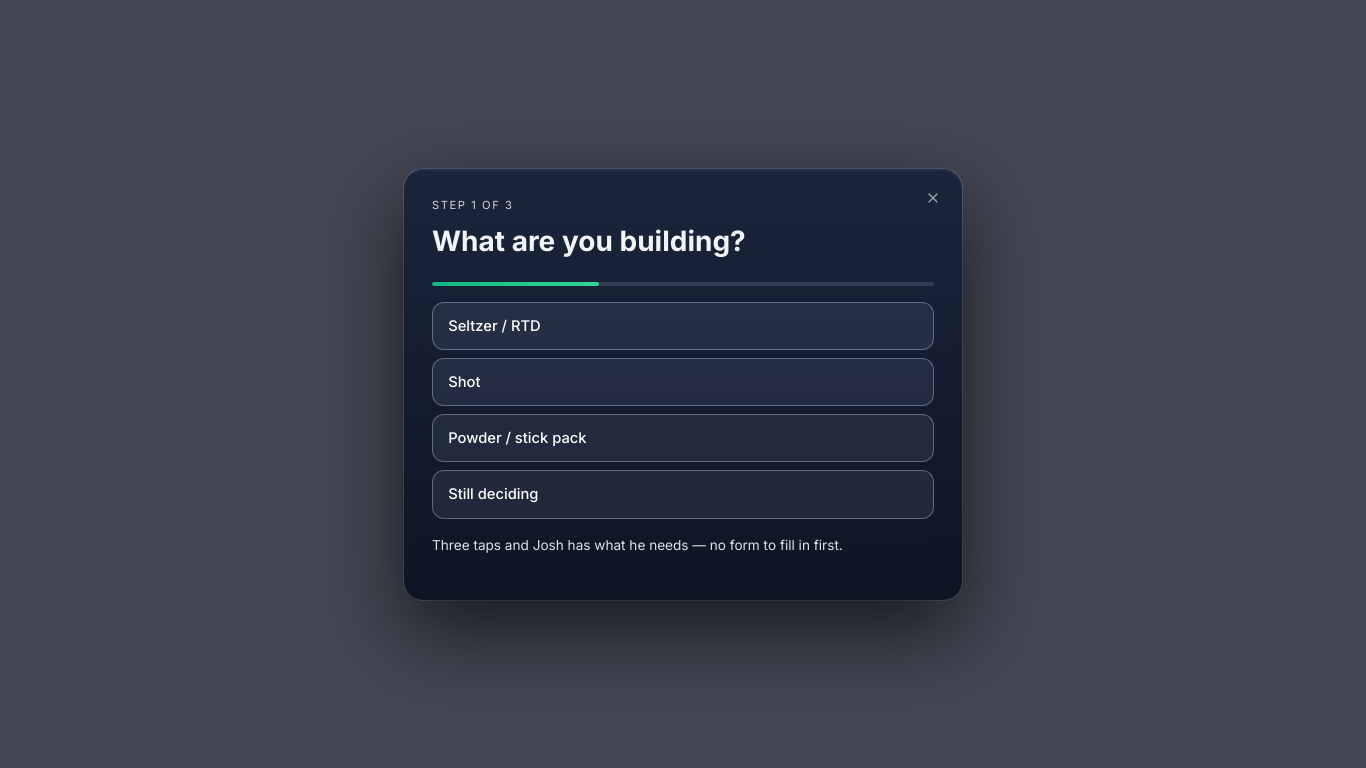
Test: tap feedback › advances only after the choice has been seen
Click the button "Seltzer / RTD" at (494, 326), box x1=432 y1=302 x2=934 y2=350
Wait 240 ms
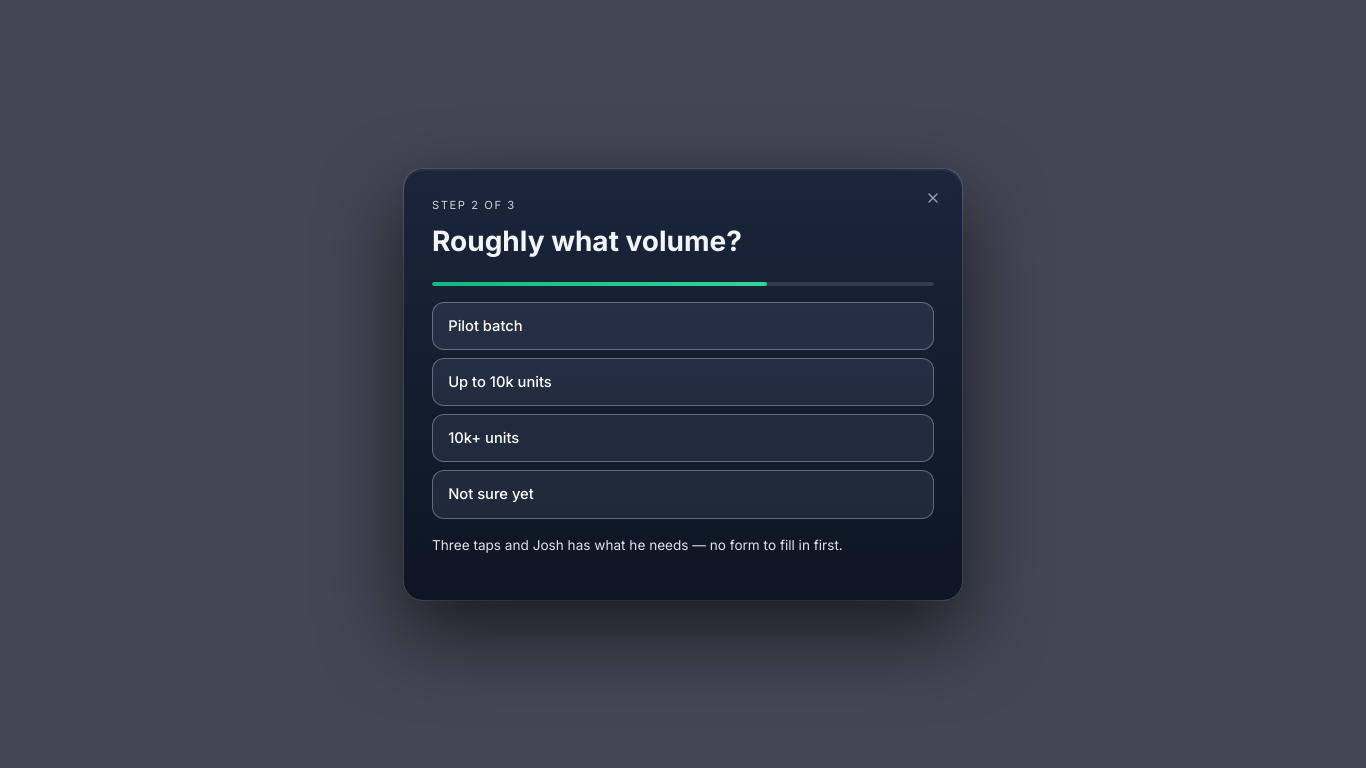
Expected: the text "Step 2 of 3" is shown, x1=432 y1=198 x2=516 y2=212
